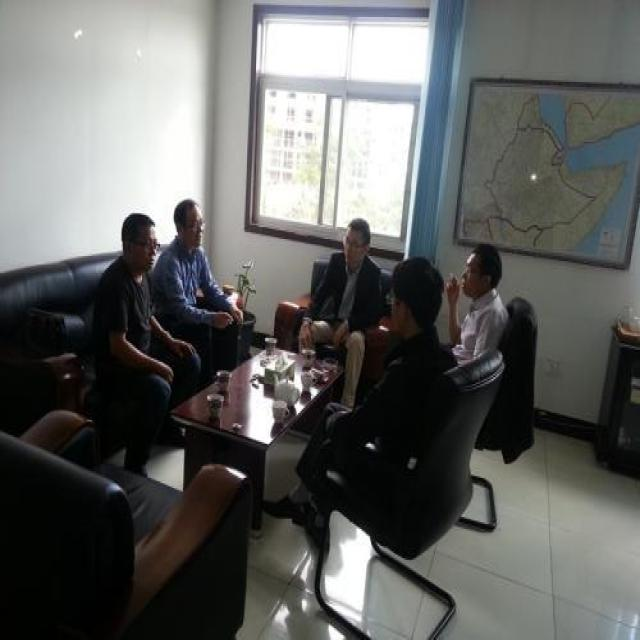no-helmet: (387, 256, 444, 345), (458, 241, 503, 300), (118, 210, 160, 270), (174, 194, 207, 251), (342, 214, 370, 266)
